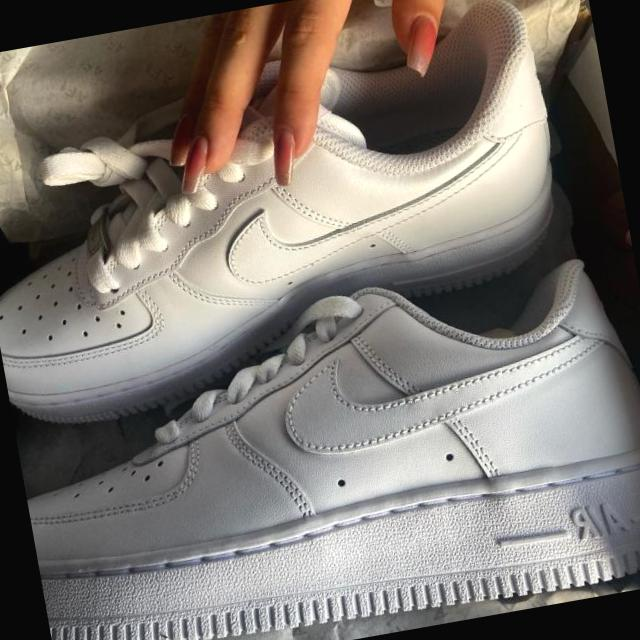nike_original_airforce: (0, 1, 604, 445), (1, 247, 640, 640)
